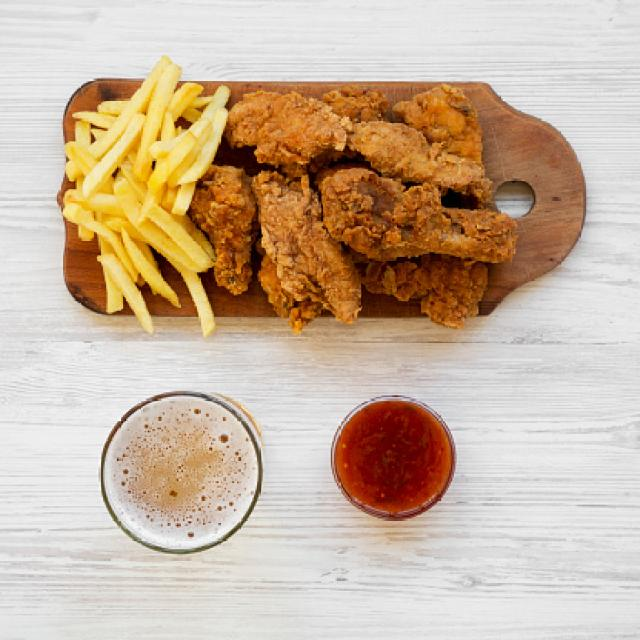carb: (65, 60, 231, 339)
meat: (320, 167, 517, 267), (252, 172, 362, 324), (338, 237, 488, 328), (346, 120, 491, 207), (227, 93, 355, 178), (194, 166, 257, 293), (392, 86, 483, 167), (259, 254, 326, 330), (320, 91, 393, 123)
